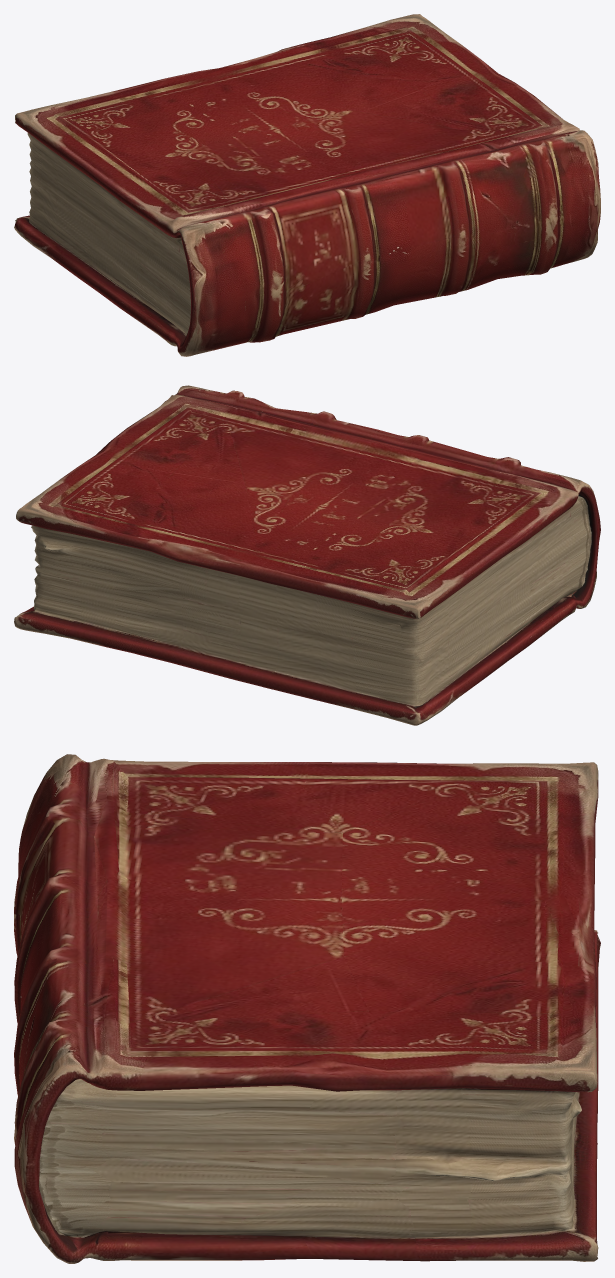
The model's file is closed_book.glb.
3 views of the same model, one above another, from view 1: azimuth 30°, elevation 25°; view 2: azimuth 150°, elevation 25°; view 3: azimuth 270°, elevation 25° (orthographic). The views are drawn at different scales.
Bounding box in the file's own units: 0.9517 × 0.2886 × 0.7442.
Materials: 1 (1 with a texture image).
